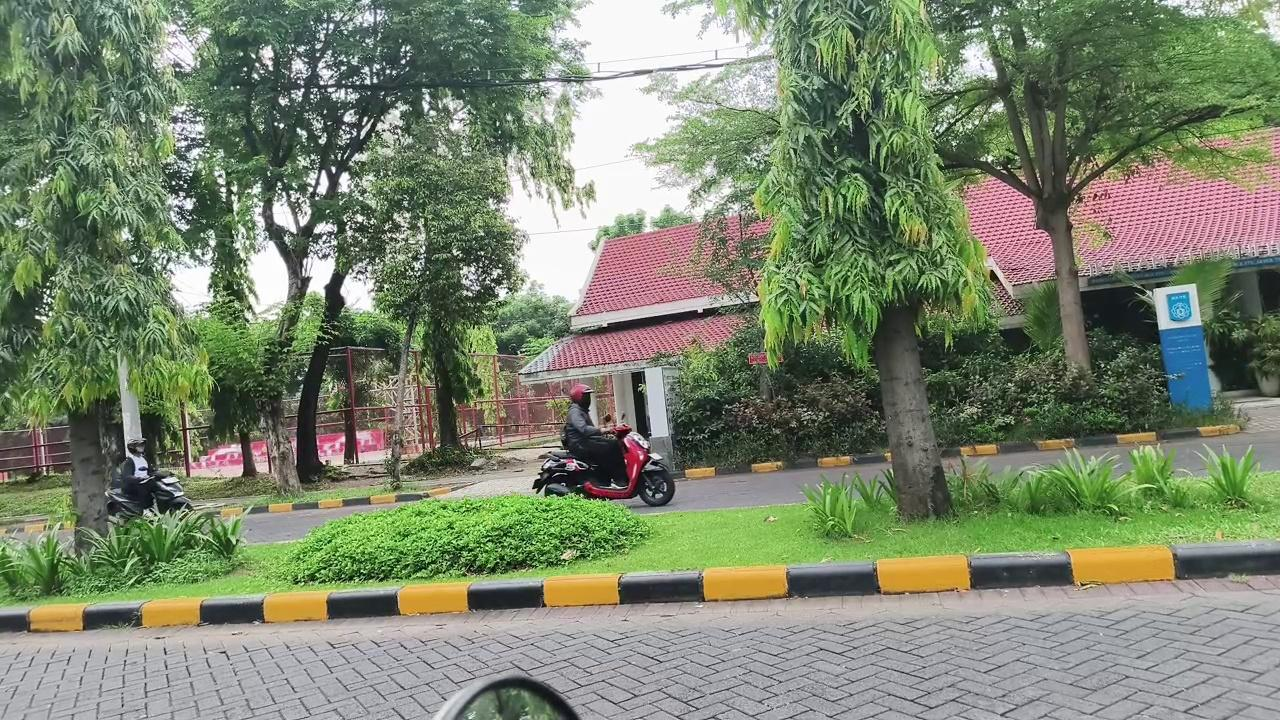Helmet: (562, 384, 626, 486), (118, 437, 152, 499)
Motor: (533, 425, 674, 506), (106, 472, 192, 522)
